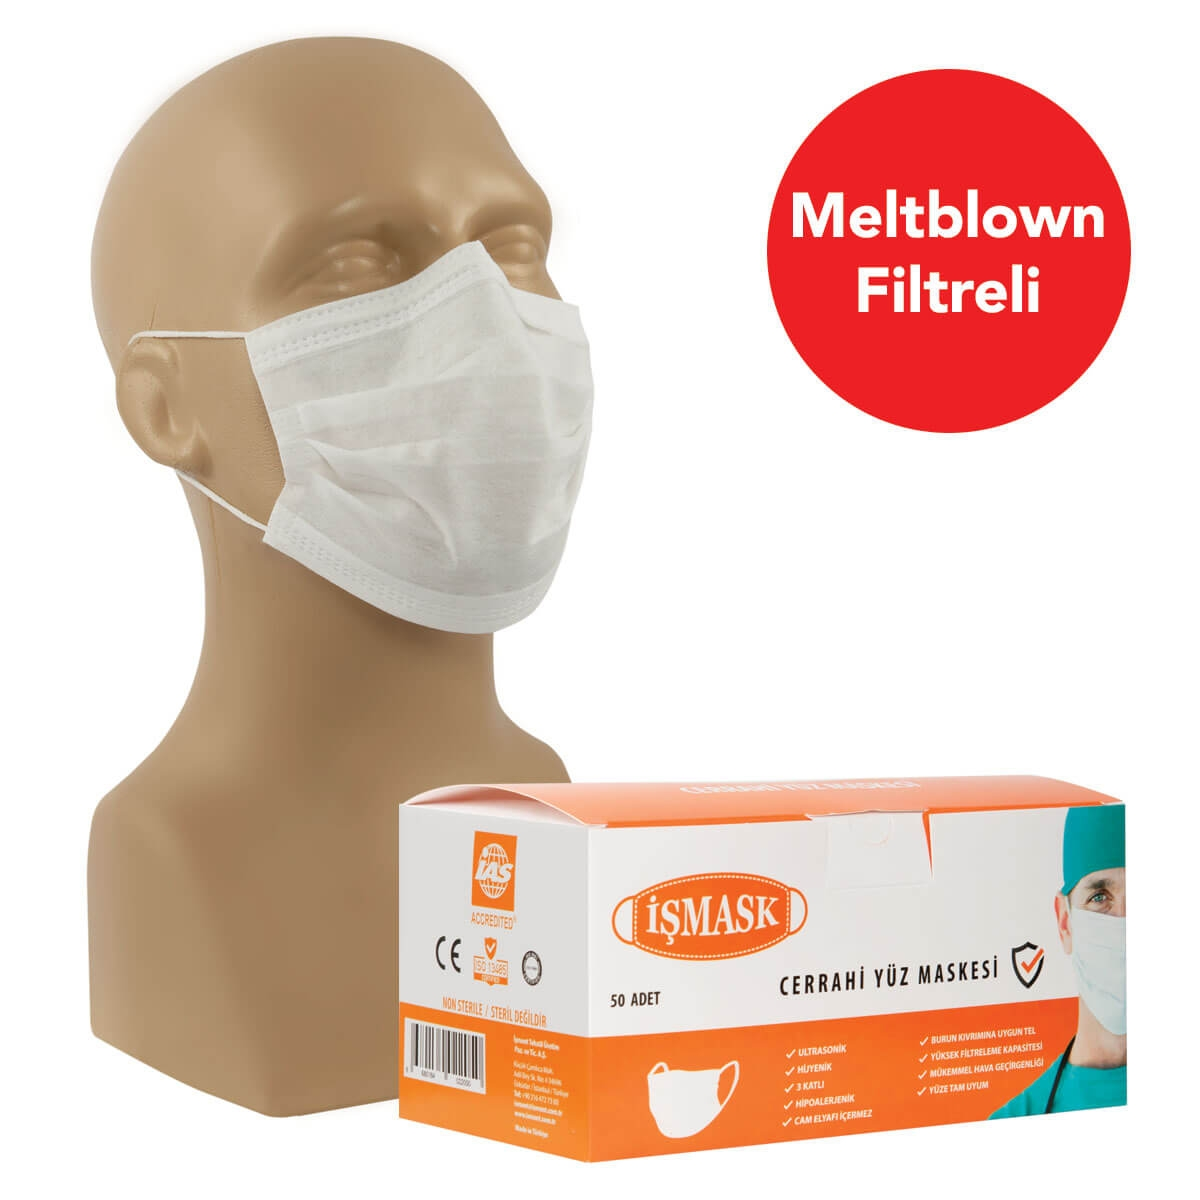maske: (244, 257, 599, 633)
